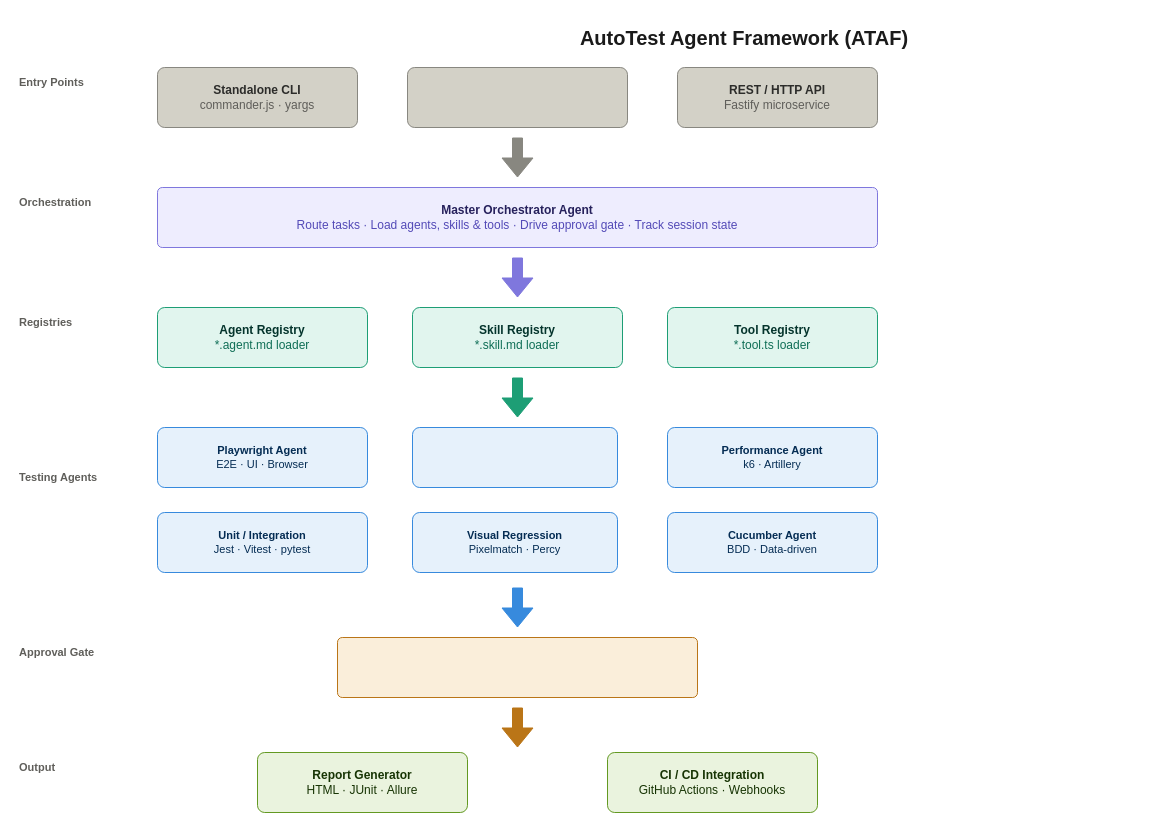
This 1161x830 diagram has some shape labels left out. The shapes that lost their labels are listed below. From the top down, each one's centre as x and y in pixels, then its label:
the point at 517,97: GitHub Copilot SDK @github/copilot-extensions
the point at 515,457: API Test Agent REST · GraphQL
the point at 517,667: Human Approval Gate Review · Approve / Reject · Re-run
